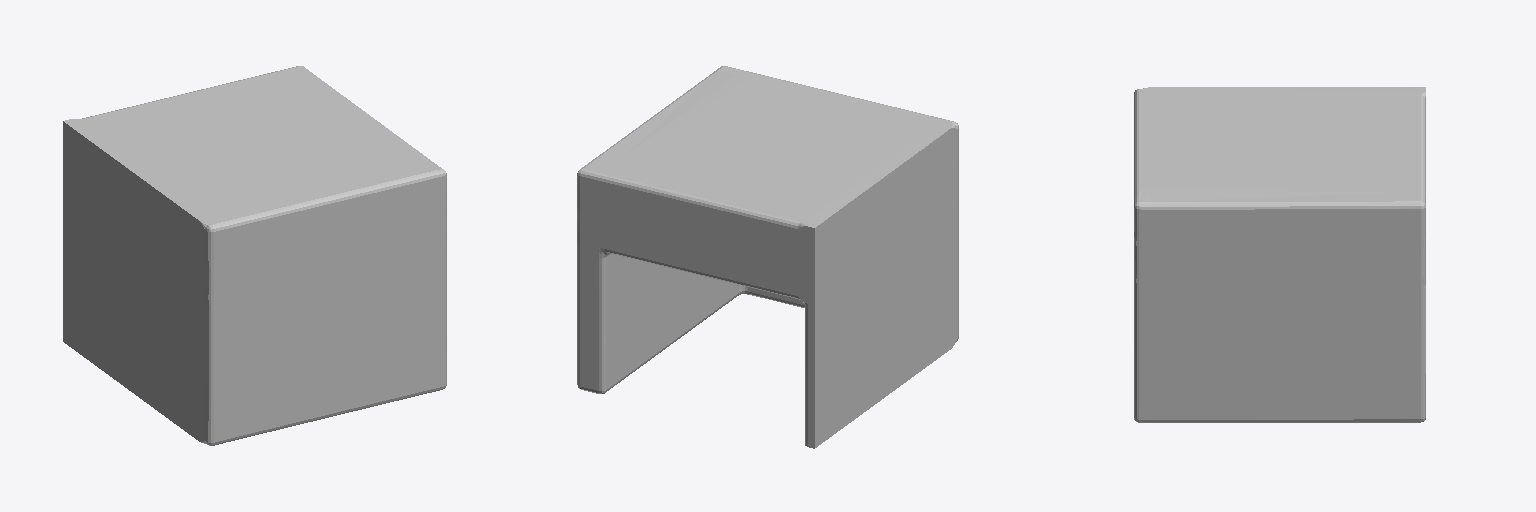
The model's file is Garage.obj.
The picture shows the model from 3 angles: view 1: azimuth 30°, elevation 25°; view 2: azimuth 150°, elevation 25°; view 3: azimuth 270°, elevation 25°; orthographic projection.
Parts seen in each view (by area): view 1: Garage_Cube.018; view 2: Garage_Cube.018; view 3: Garage_Cube.018.
Part boxes in pixels (bbox=[...]): Garage_Cube.018: bbox=[63, 66, 446, 445]; Garage_Cube.018: bbox=[577, 66, 958, 448]; Garage_Cube.018: bbox=[1134, 87, 1425, 422].
Size of the model in its own units: 7.95 by 7.02 by 8.4.